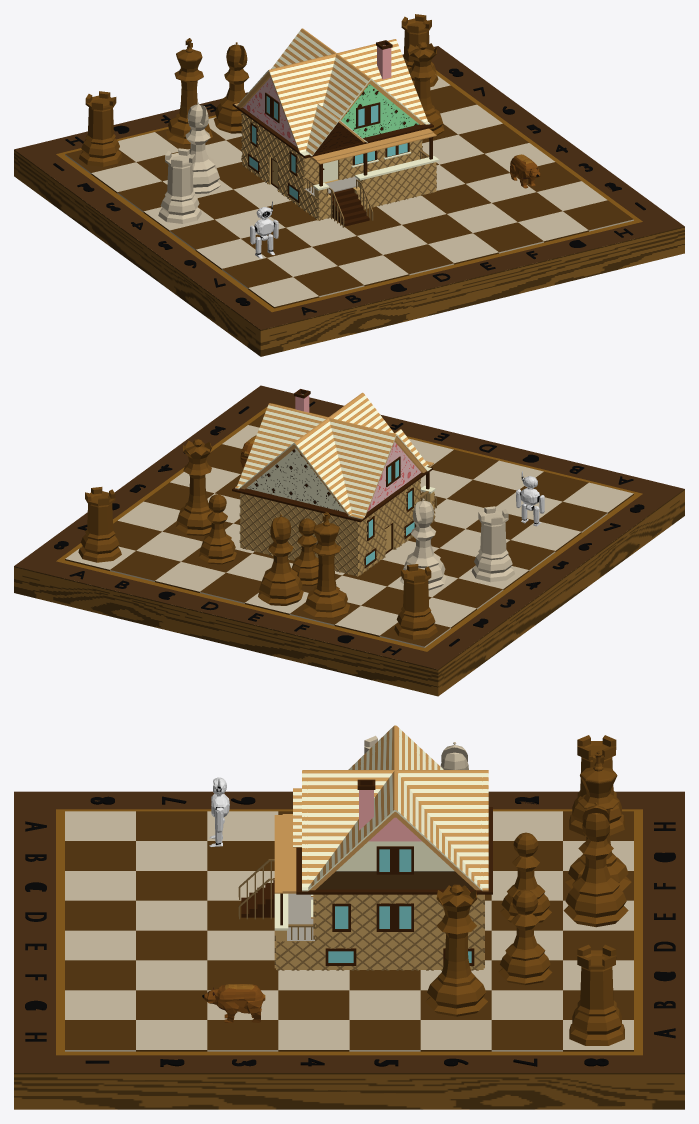
3 renders of one model, top to bottom at view 1: azimuth 30°, elevation 25°; view 2: azimuth 150°, elevation 25°; view 3: azimuth 270°, elevation 25°, orthographic. The views are drawn at different scales.
Visible parts, largest first — view 1: Cube.002, Cube.1102, OBJRANDOM_PLATZEEBOT, ANIMAL_OSO; view 2: Cube.002, Cube.1102, OBJRANDOM_PLATZEEBOT; view 3: Cube.002, Cube.1102, ANIMAL_OSO, OBJRANDOM_PLATZEEBOT.
Boxes of the visible parts, x1=… form: Cube.002: x1=14, y1=14, x2=684, y2=356; Cube.1102: x1=232, y1=28, x2=439, y2=227; OBJRANDOM_PLATZEEBOT: x1=250, y1=201, x2=278, y2=258; ANIMAL_OSO: x1=510, y1=154, x2=540, y2=188; Cube.002: x1=14, y1=385, x2=684, y2=696; Cube.1102: x1=232, y1=389, x2=436, y2=576; OBJRANDOM_PLATZEEBOT: x1=516, y1=471, x2=544, y2=526; Cube.002: x1=14, y1=735, x2=684, y2=1109; Cube.1102: x1=238, y1=725, x2=492, y2=970; ANIMAL_OSO: x1=202, y1=984, x2=265, y2=1022; OBJRANDOM_PLATZEEBOT: x1=209, y1=777, x2=229, y2=846.
Bounding box in the file's own units: 3981 × 1434 × 4012.
23 materials, 4 textured.
